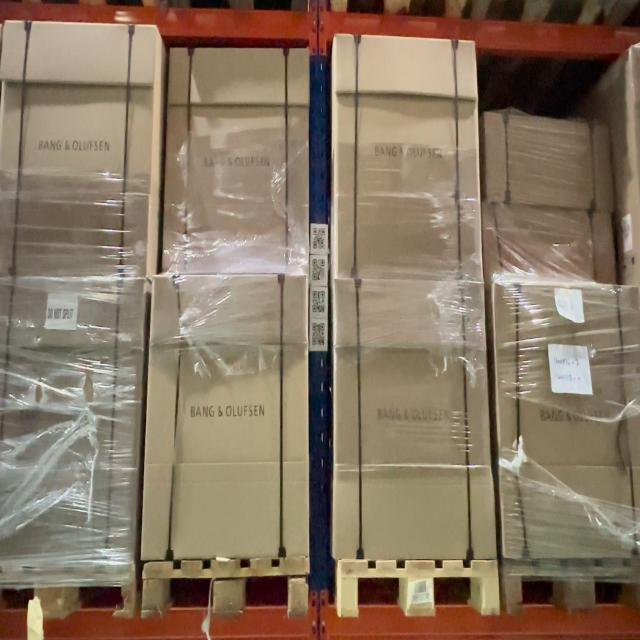box: (154, 279, 308, 557), (336, 286, 485, 556), (336, 43, 476, 276), (168, 48, 308, 271)
